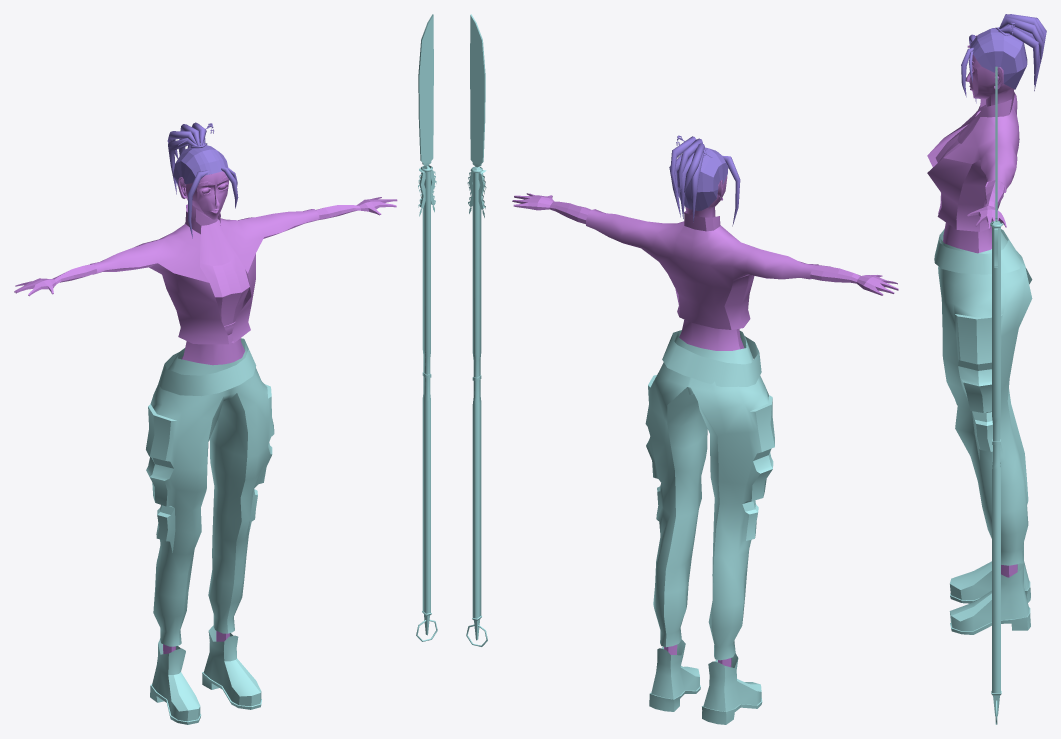
The model's file is Personaje de ejemplo versión 4-modelado.fbx.
3 views of the same model, side by side, from view 1: azimuth 30°, elevation 25°; view 2: azimuth 150°, elevation 25°; view 3: azimuth 270°, elevation 25° (orthographic). The views are drawn at different scales.
Parts seen in each view (by area): view 1: Pantalon, Chumpa, Cuerpo, Box002, Cabellera, Zapato001, Zapato, Chincho, Box001, Blusa, Guantes_extendidos; view 2: Pantalon, Chumpa, Box002, Cabellera, Chincho, Zapato, Cuerpo, Zapato001, Box001, Guantes_extendidos; view 3: Pantalon, Chumpa, Box002, Cabellera, Cuerpo, Zapato001, Chincho, Zapato, Guantes_extendidos, Box001, Blusa.
Part boxes in pixels (left/top/right/bottom): Pantalon: left=146, top=341, right=274, bottom=646; Chumpa: left=90, top=204, right=319, bottom=344; Cuerpo: left=14, top=171, right=397, bottom=654; Box002: left=422, top=165, right=431, bottom=635; Cabellera: left=167, top=122, right=238, bottom=238; Zapato001: left=202, top=625, right=261, bottom=709; Zapato: left=150, top=639, right=200, bottom=724; Chincho: left=158, top=338, right=256, bottom=396; Box001: left=418, top=14, right=433, bottom=166; Blusa: left=200, top=255, right=249, bottom=335; Guantes_extendidos: left=29, top=199, right=379, bottom=289; Pantalon: left=645, top=330, right=774, bottom=660; Chumpa: left=586, top=209, right=818, bottom=329; Box002: left=472, top=166, right=481, bottom=640; Cabellera: left=669, top=136, right=740, bottom=226; Chincho: left=662, top=330, right=761, bottom=386; Zapato: left=702, top=653, right=762, bottom=724; Cuerpo: left=512, top=176, right=898, bottom=667; Zapato001: left=649, top=639, right=700, bottom=711; Box001: left=470, top=14, right=485, bottom=167; Guantes_extendidos: left=528, top=195, right=881, bottom=291; Pantalon: left=938, top=229, right=1032, bottom=565; Chumpa: left=927, top=92, right=1019, bottom=231; Box002: left=991, top=221, right=1001, bottom=716; Cabellera: left=961, top=14, right=1046, bottom=103; Cuerpo: left=943, top=35, right=1017, bottom=577; Zapato001: left=949, top=562, right=1030, bottom=634; Chincho: left=934, top=229, right=1021, bottom=274; Zapato: left=950, top=543, right=1030, bottom=603; Guantes_extendidos: left=978, top=180, right=1004, bottom=217; Box001: left=995, top=66, right=997, bottom=221; Blusa: left=935, top=127, right=965, bottom=162.
Size of the model in its own units: 88.37 by 125 by 20.42.
